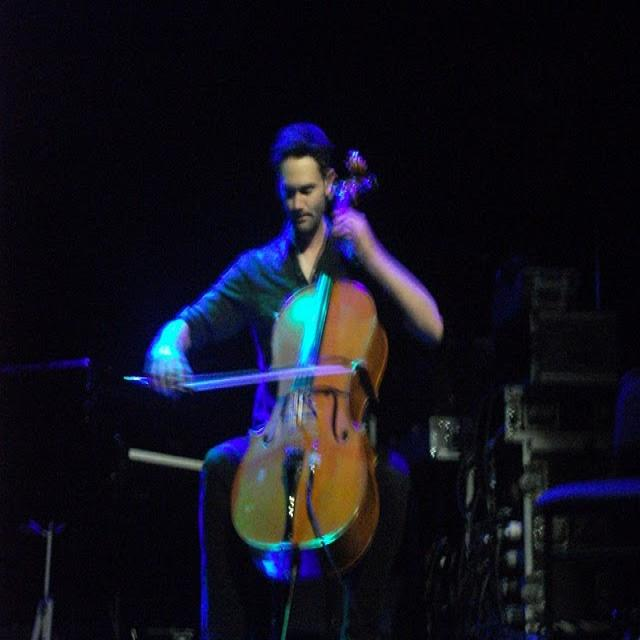cello: (226, 148, 392, 584)
